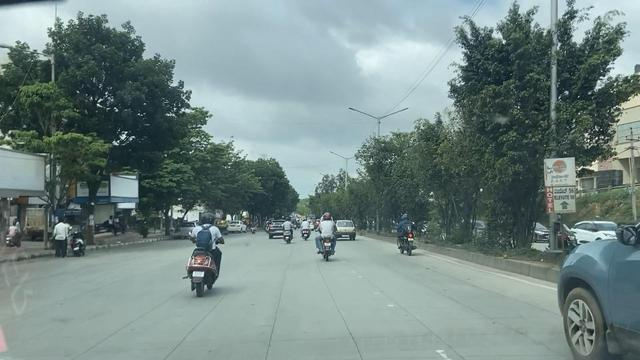LMV: (393, 205, 422, 264)
